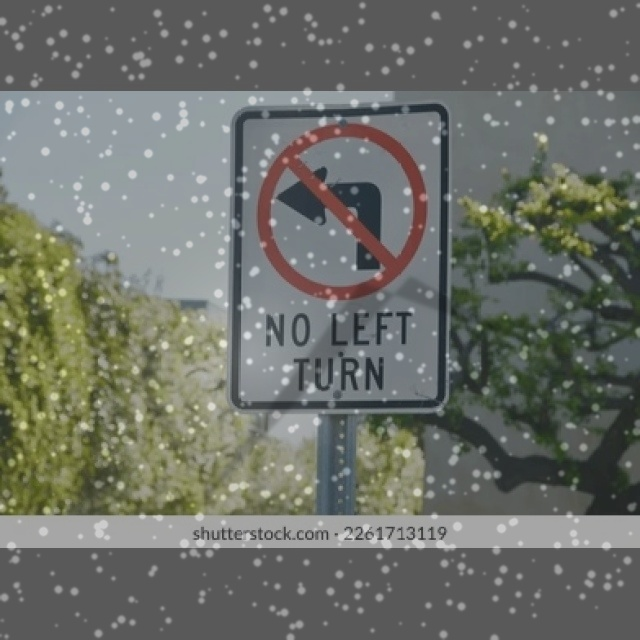Left_Turn_Prohibited: (250, 121, 432, 306)
